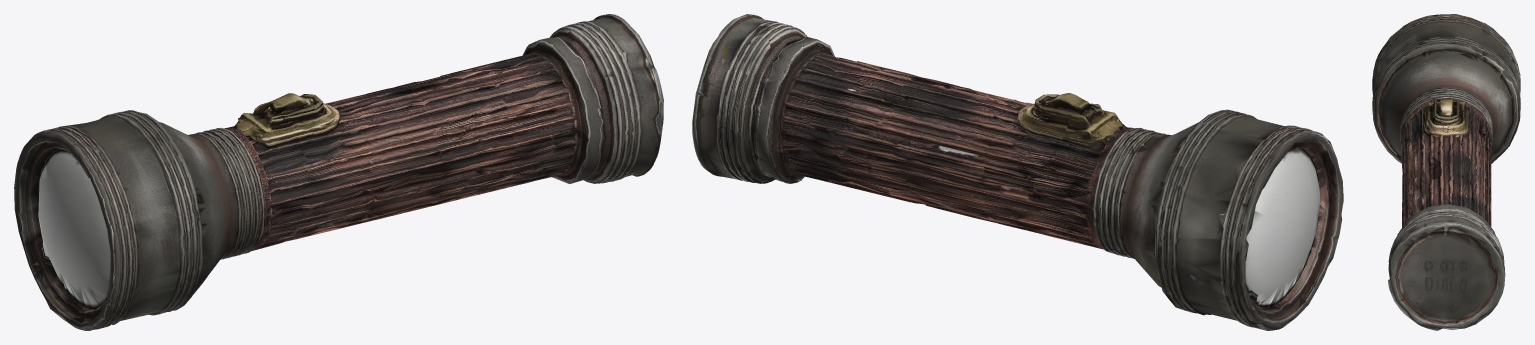
Rendered from Lanterna_Otimizada.glb.
3 views of the same model, side by side, from view 1: azimuth 30°, elevation 25°; view 2: azimuth 150°, elevation 25°; view 3: azimuth 270°, elevation 25° (orthographic). The views are drawn at different scales.
Visible parts, largest first — view 1: Lanterna; view 2: Lanterna; view 3: Lanterna.
Boxes of the visible parts, x1,y1,x2,y2 form: Lanterna: (14,14,663,330); Lanterna: (692,14,1343,330); Lanterna: (1372,14,1520,330).
Size of the model in its own units: 1.9 by 0.6032 by 0.6015.
1 material, 1 textured.
